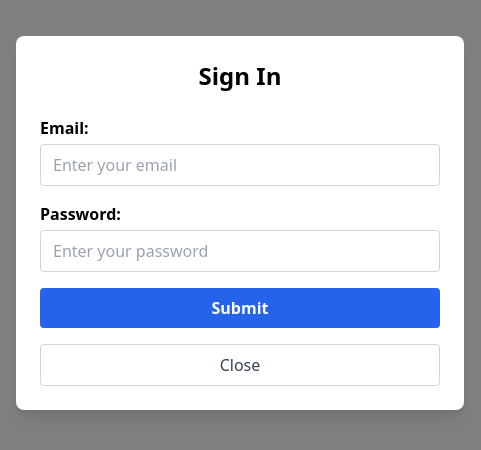
Test: SignIn Component › shows credential error for incorrect login
In the field labelled "Email:": point(240, 165) [40,144,440,186], type "wrong@example.com"
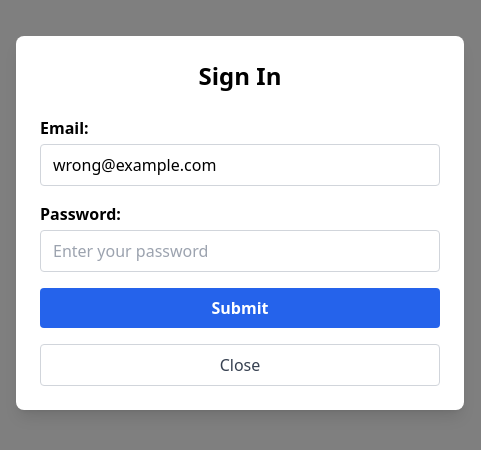
In the password field labelled "Password:": point(240, 251) [40,230,440,272], type "wrongpass"
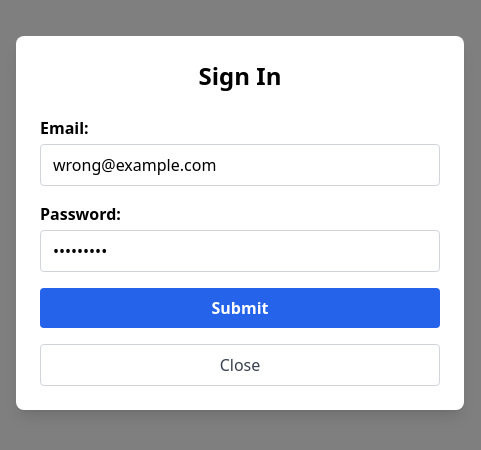
Click the button "Submit": point(240, 308) [40,288,440,328]
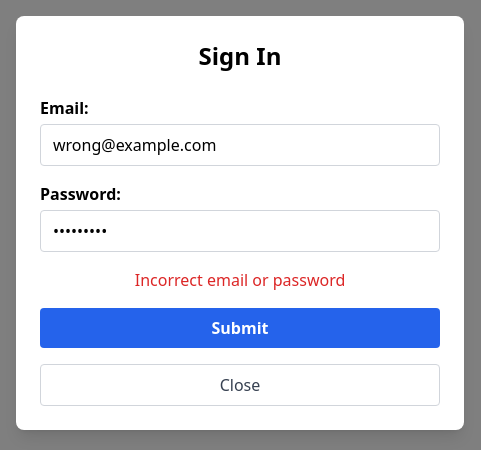
expect the text "Incorrect email or password" is shown: met, box [135,269,345,291]
